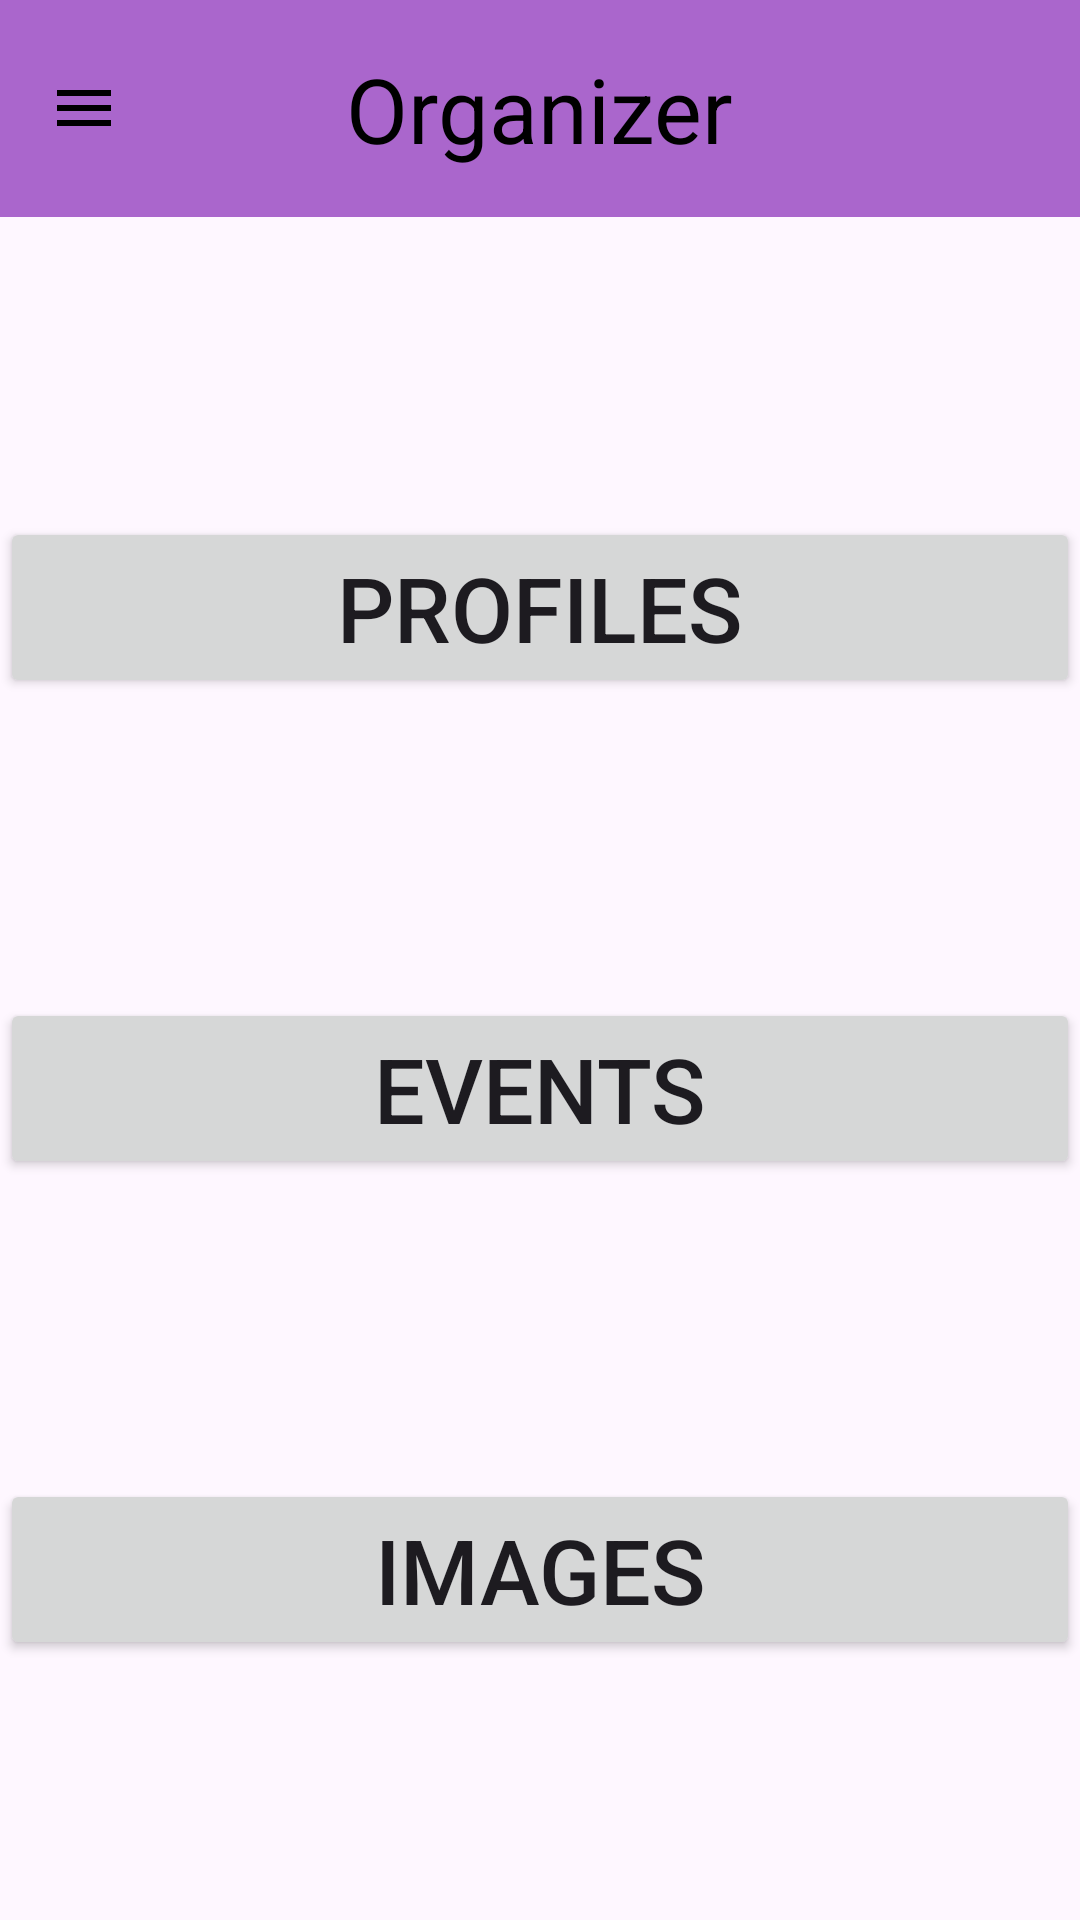

Icons on this 1080*1920 Android screen, each with its box as detection(x1, y1, x2, y2):
menu: detection(57, 90, 111, 126)
